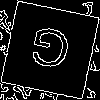G: (25, 25, 74, 79)
